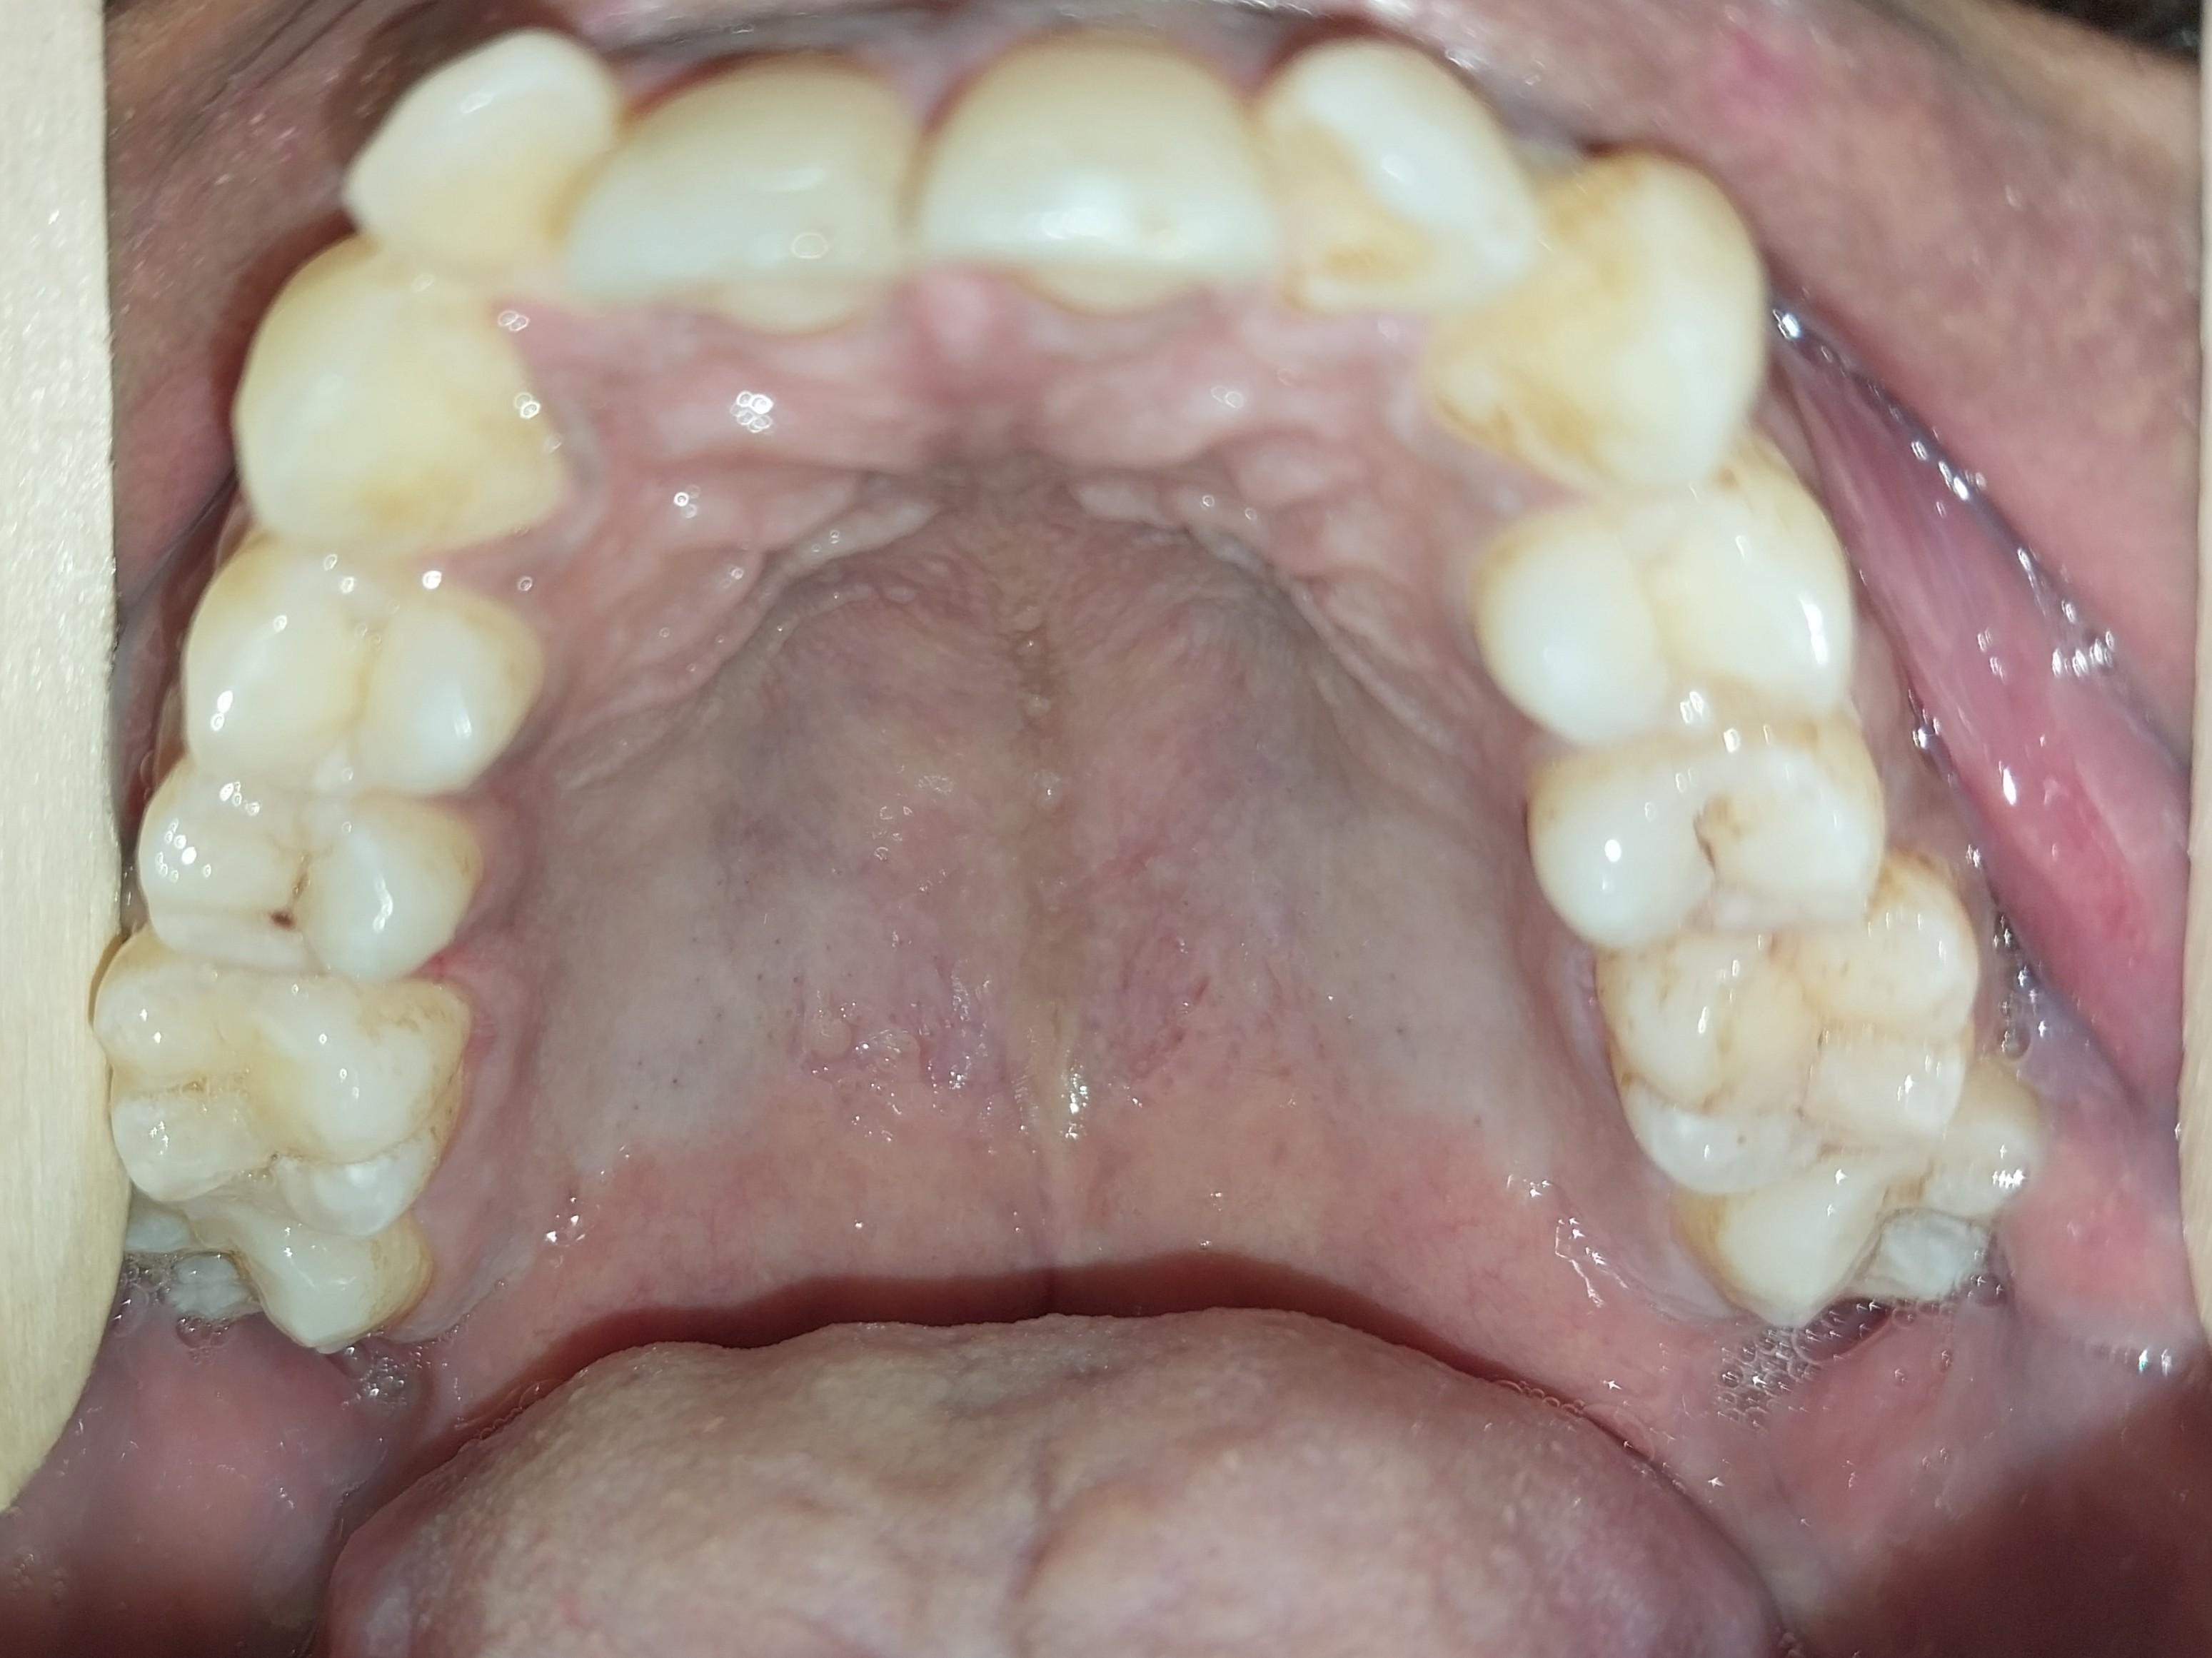D: (142, 757, 471, 988)
